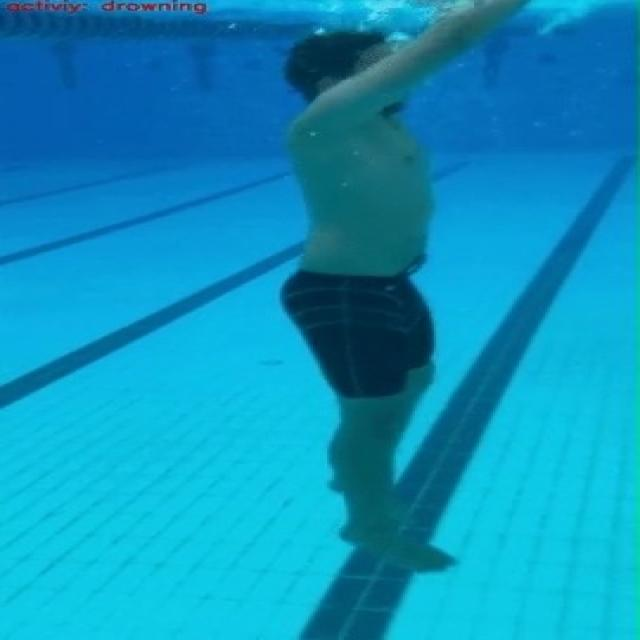Drowning: (274, 0, 540, 572)
